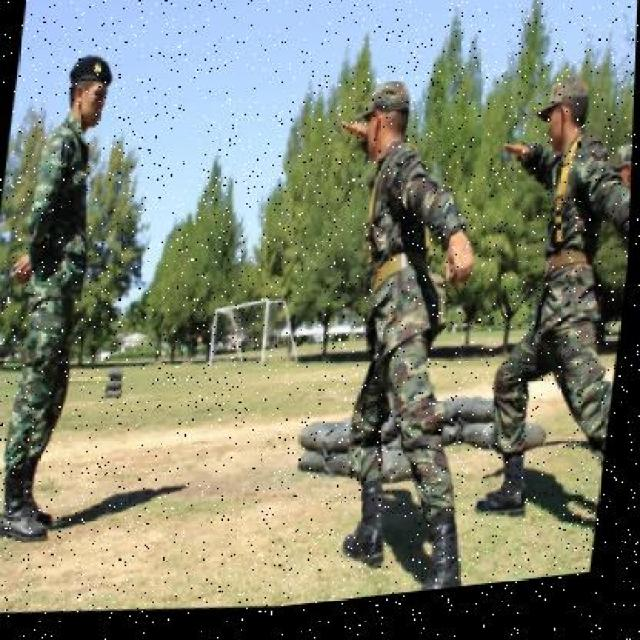MIL_Pax: (302, 41, 496, 612), (466, 65, 637, 598), (0, 13, 145, 564), (575, 147, 634, 487)
